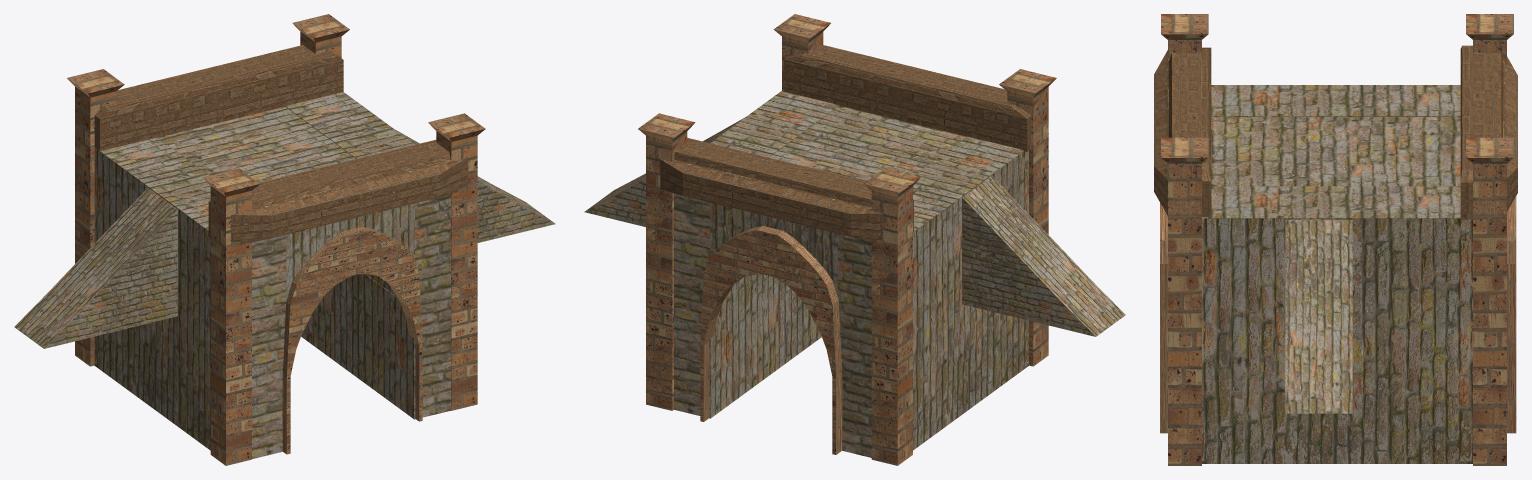
Rendered from GateHouse.fbx.
The picture shows the model from 3 angles, left to right: view 1: azimuth 30°, elevation 25°; view 2: azimuth 150°, elevation 25°; view 3: azimuth 270°, elevation 25°; orthographic projection. The views are drawn at different scales.
Visible parts, largest first — view 1: Cube.003, Cube.002, Cube.013, Cube.005, Cube.006, Cube.004, Cube.011, Cube.008, Cube.012, Cube.010, Cube.014, Cube.009; view 2: Cube.003, Cube.002, Cube.013, Cube.006, Cube.005, Cube.010, Cube.004, Cube.007, Cube.009, Cube.011, Cube.014, Cube.012; view 3: Cube.002, Cube.004, Cube.014, Cube.009, Cube.012, Cube.003, Cube.005, Cube.006, Cube.007, Cube.008, Cube.010, Cube.011.
Part boxes in pixels (left/top/right/bottom): Cube.003: left=94, top=137, right=286, bottom=458; Cube.002: left=285, top=92, right=450, bottom=419; Cube.013: left=14, top=188, right=177, bottom=348; Cube.005: left=94, top=45, right=343, bottom=151; Cube.006: left=208, top=139, right=468, bottom=246; Cube.004: left=158, top=107, right=414, bottom=300; Cube.011: left=203, top=168, right=259, bottom=465; Cube.008: left=282, top=226, right=422, bottom=454; Cube.012: left=428, top=113, right=485, bottom=410; Cube.010: left=67, top=69, right=124, bottom=366; Cube.014: left=396, top=130, right=555, bottom=242; Cube.009: left=292, top=14, right=349, bottom=57; Cube.003: left=838, top=136, right=1028, bottom=457; Cube.002: left=674, top=89, right=839, bottom=418; Cube.013: left=962, top=176, right=1125, bottom=336; Cube.006: left=783, top=44, right=1031, bottom=151; Cube.005: left=660, top=138, right=913, bottom=243; Cube.010: left=863, top=168, right=920, bottom=465; Cube.004: left=709, top=106, right=966, bottom=297; Cube.007: left=700, top=226, right=842, bottom=454; Cube.009: left=638, top=113, right=695, bottom=410; Cube.011: left=999, top=69, right=1056, bottom=366; Cube.014: left=584, top=118, right=743, bottom=226; Cube.012: left=773, top=14, right=830, bottom=90; Cube.002: left=1202, top=186, right=1472, bottom=463; Cube.004: left=1211, top=117, right=1460, bottom=186; Cube.014: left=1285, top=219, right=1352, bottom=413; Cube.009: left=1466, top=137, right=1513, bottom=465; Cube.012: left=1161, top=137, right=1208, bottom=465; Cube.003: left=1211, top=85, right=1460, bottom=116; Cube.005: left=1460, top=45, right=1517, bottom=219; Cube.006: left=1154, top=47, right=1211, bottom=217; Cube.007: left=1507, top=196, right=1516, bottom=433; Cube.008: left=1160, top=203, right=1167, bottom=433; Cube.010: left=1466, top=14, right=1513, bottom=62; Cube.011: left=1161, top=14, right=1208, bottom=60.
Size of the model in its own units: 1003 by 518 by 549.
